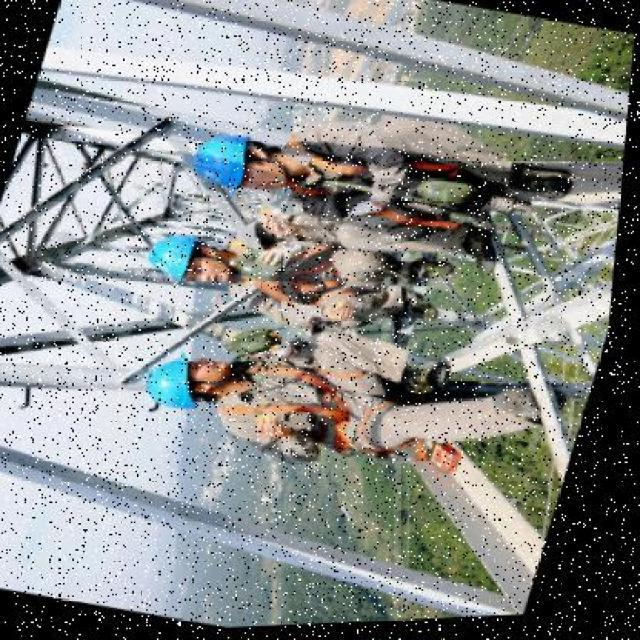helmet: (185, 126, 256, 194), (143, 232, 210, 290), (149, 353, 209, 415)
